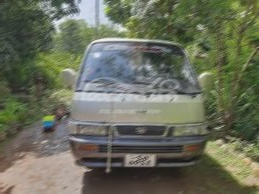van: (51, 39, 213, 174)
